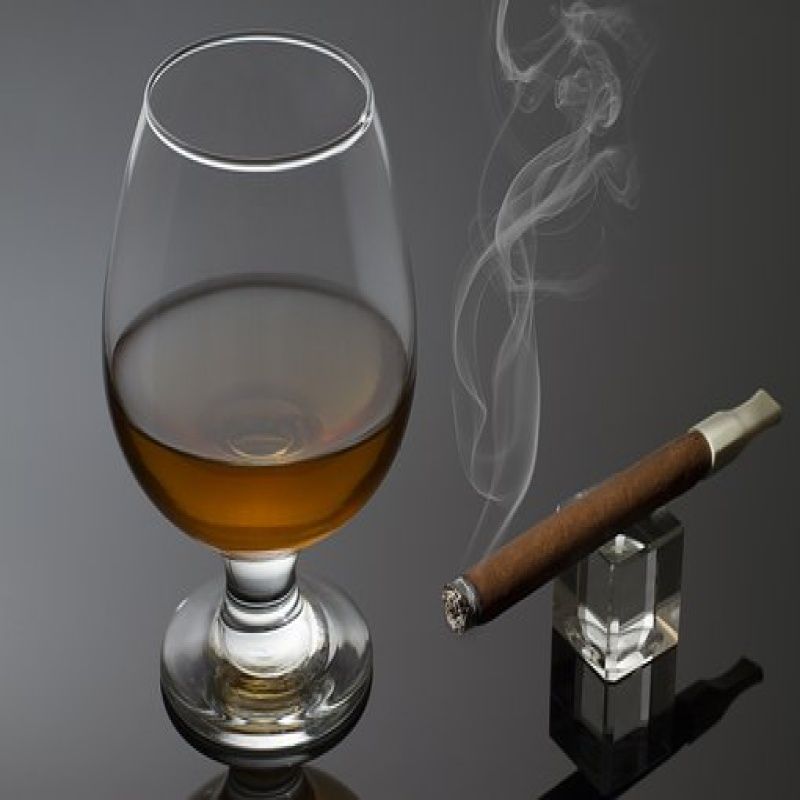whiskey: (92, 37, 420, 548)
